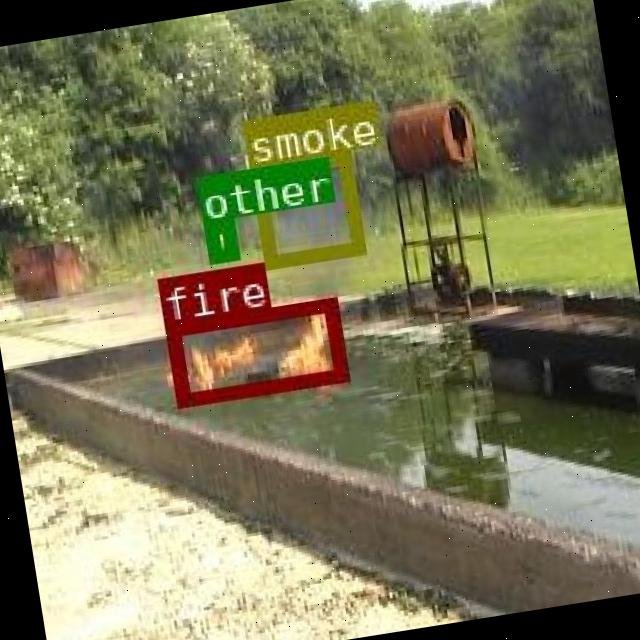fire: (162, 298, 344, 407)
smoke: (247, 150, 364, 266)
